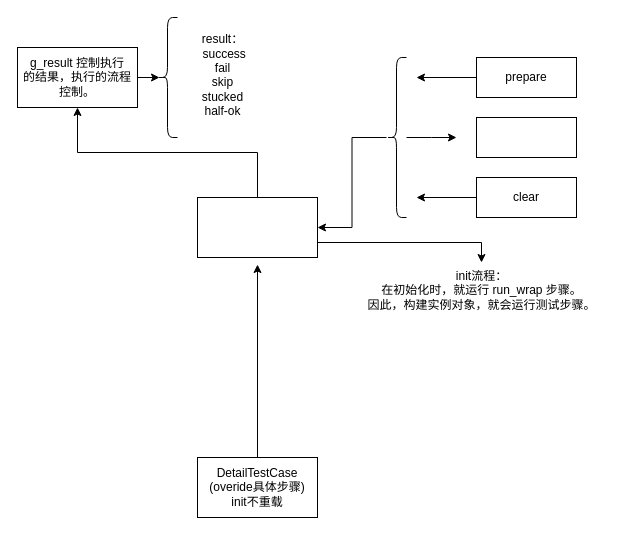
Image size: 624x535. Some labels were removed from this diagram. Here are the shapes that lost their labels. From the top down, the centre of each, then its label:
At point (526, 137): "run".
At point (257, 227): "Base: TestCase".
